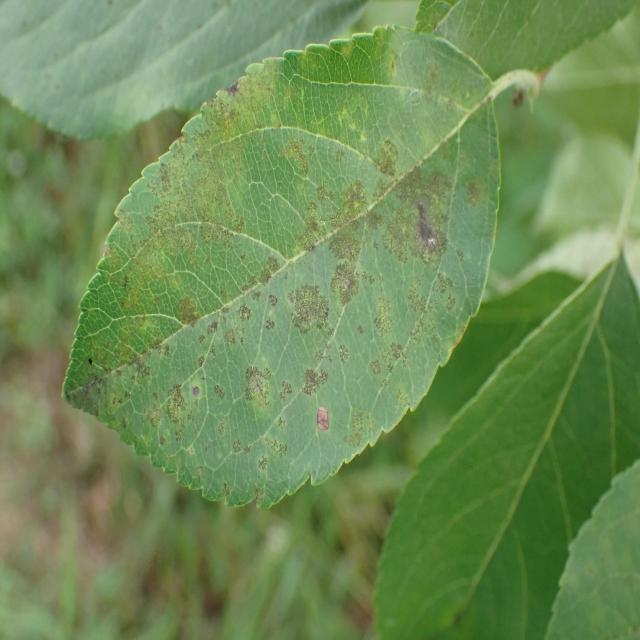scab: (60, 59, 502, 468)
